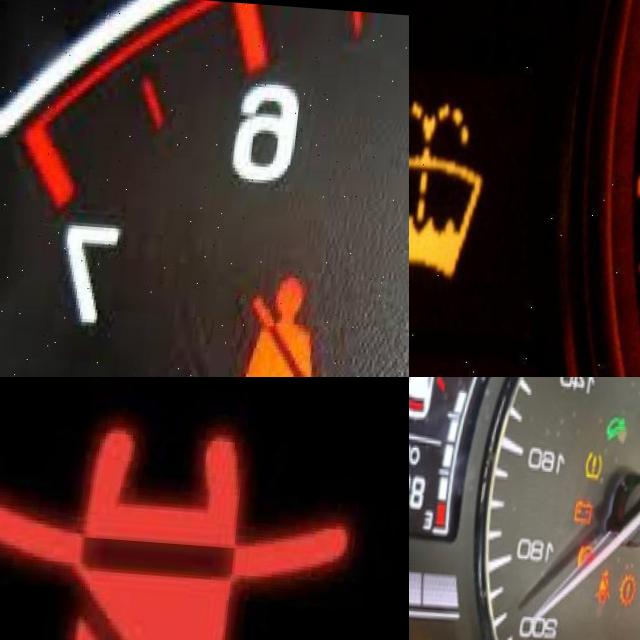Seat Belt: (0, 414, 361, 640), (225, 270, 349, 377), (601, 563, 623, 607)
Washer Fluid: (409, 97, 501, 282)
